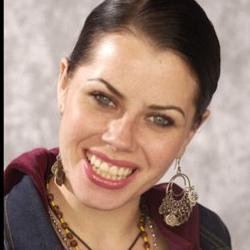face: (27, 1, 228, 221)
